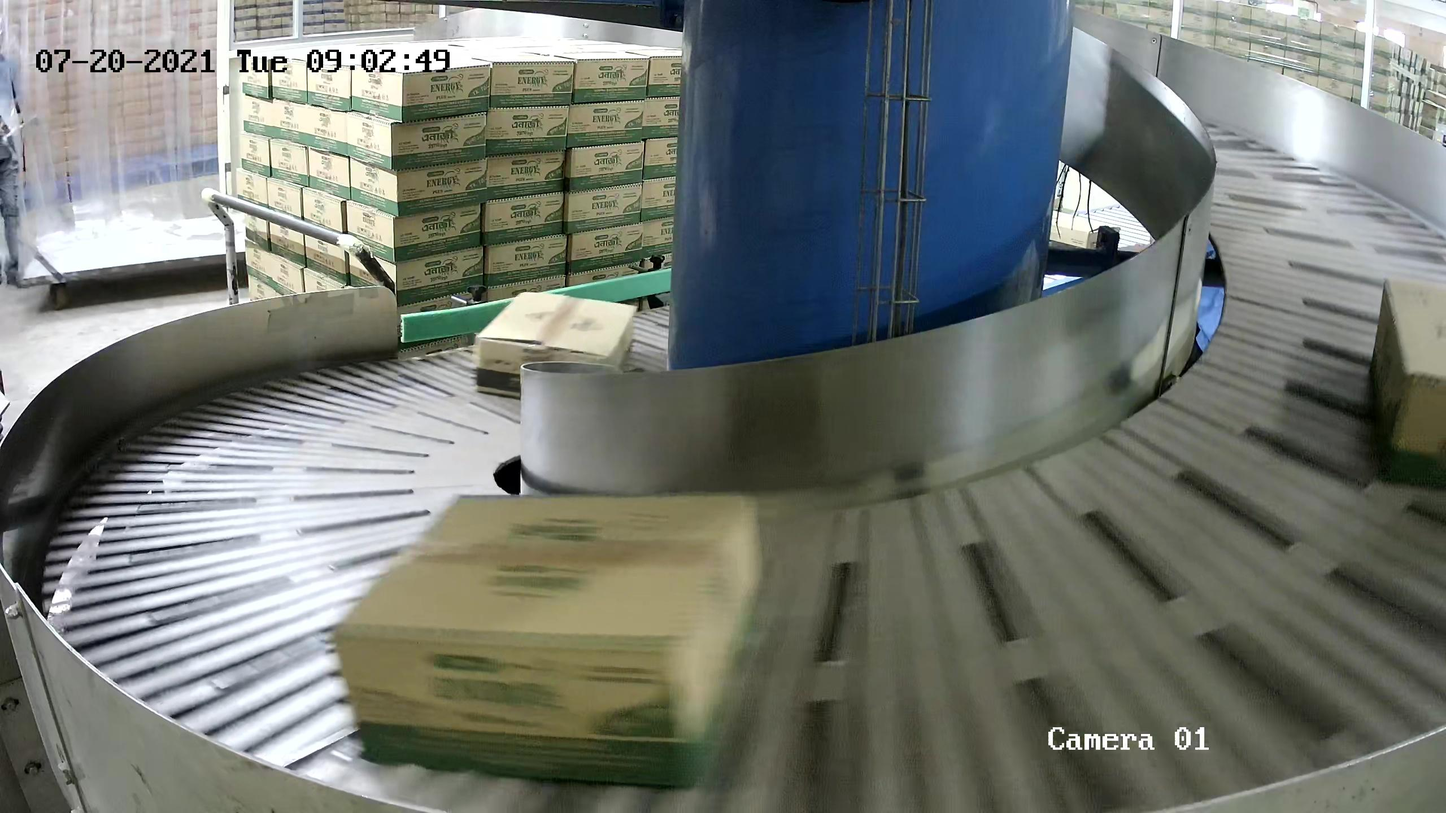Box: (334, 492, 766, 792), (474, 291, 635, 403), (1365, 276, 1446, 494)
